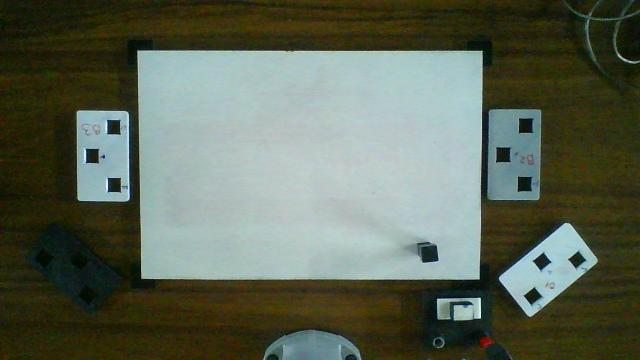peca_preta: (422, 246, 439, 263)
